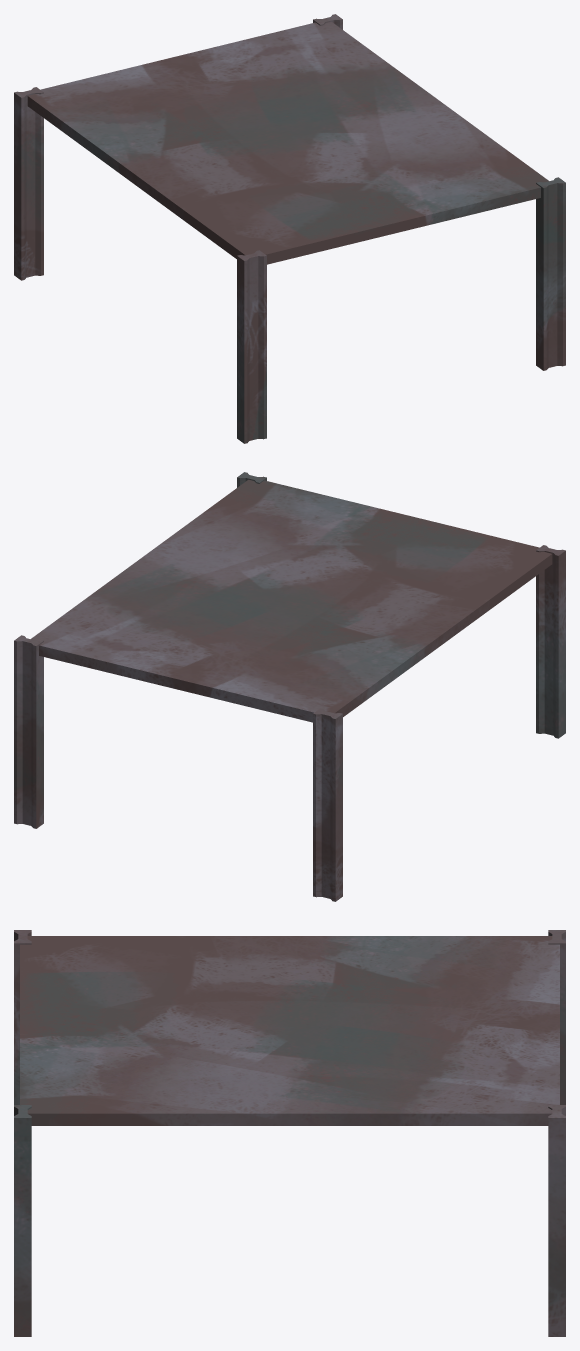
The model's file is CONS3.fbx.
The picture shows the model from 3 angles, top to bottom: view 1: azimuth 30°, elevation 25°; view 2: azimuth 150°, elevation 25°; view 3: azimuth 270°, elevation 25°; orthographic projection. The views are drawn at different scales.
Parts seen in each view (by area): view 1: Box051; view 2: Box051; view 3: Box051.
Part boxes in pixels (x1,y1,x2,y2): Box051: (14,14,565,443); Box051: (14,472,565,901); Box051: (14,930,565,1336).
Size of the model in its own units: 749 by 407 by 930.
